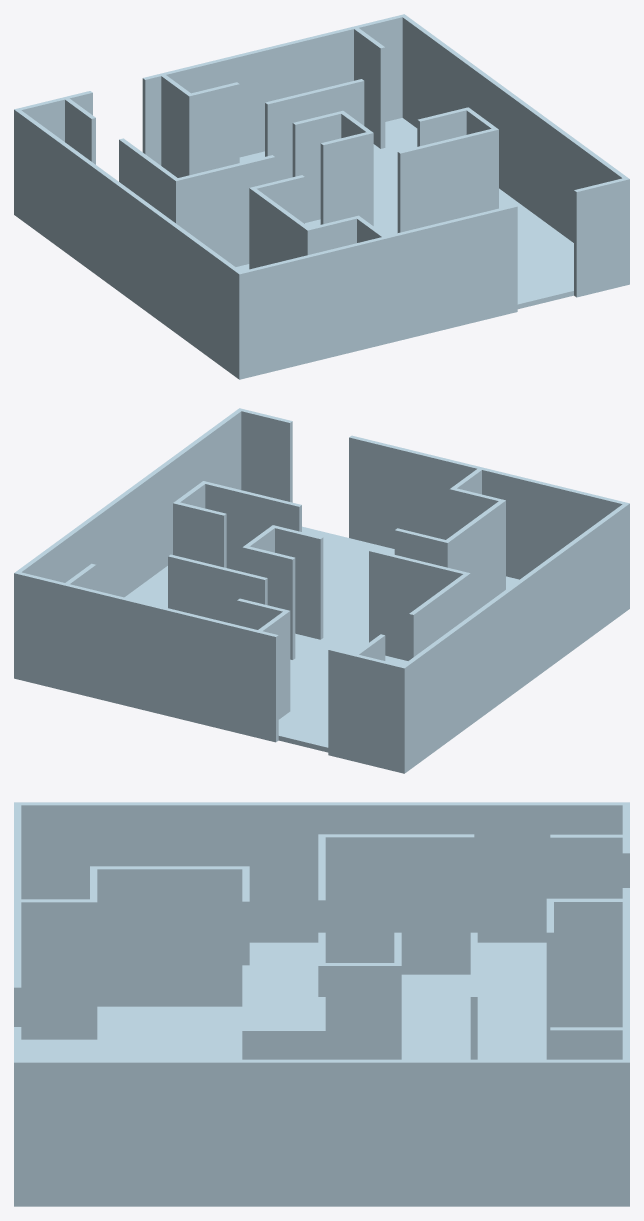
The model's file is Maze_small_alu_bb.gltf.
3 views of the same model, one above another, from view 1: azimuth 30°, elevation 25°; view 2: azimuth 150°, elevation 25°; view 3: azimuth 270°, elevation 25° (orthographic). The views are drawn at different scales.
Visible parts, largest first — view 1: Part 1; view 2: Part 1; view 3: Part 1.
Part boxes in pixels (bbox=[...]): Part 1: bbox=[14, 14, 629, 379]; Part 1: bbox=[14, 408, 629, 773]; Part 1: bbox=[14, 802, 629, 1206].
Size of the model in its own units: 0.1016 by 0.0262 by 0.1016.
